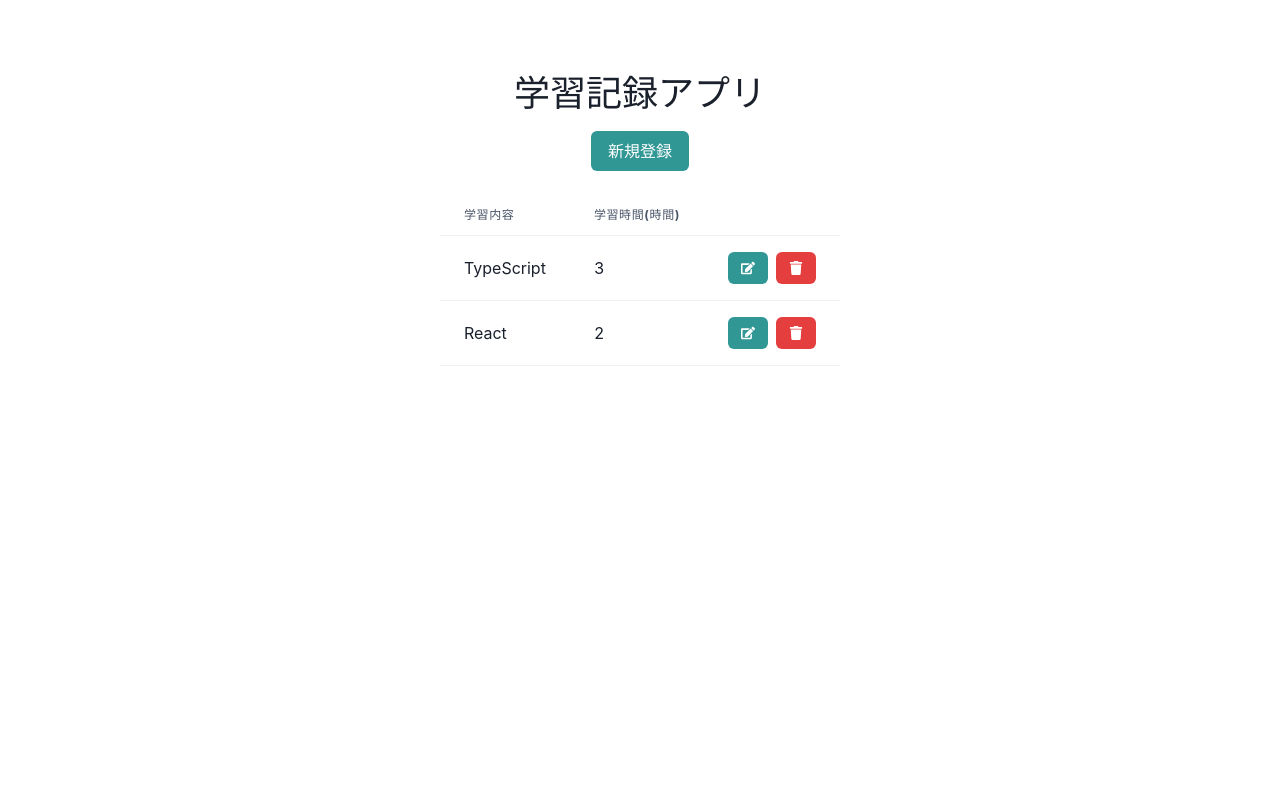
Test: 編集機能 › 編集ボタンを押すとモーダルが表示される
The width and height of the screenshot is (1280, 800).
Expected: the table is shown, [440,195,840,366]
What coordinates should you click on to do the following:
click the 2nd button
I would click on:
 (748, 268)
Its box is [728,252,768,284].
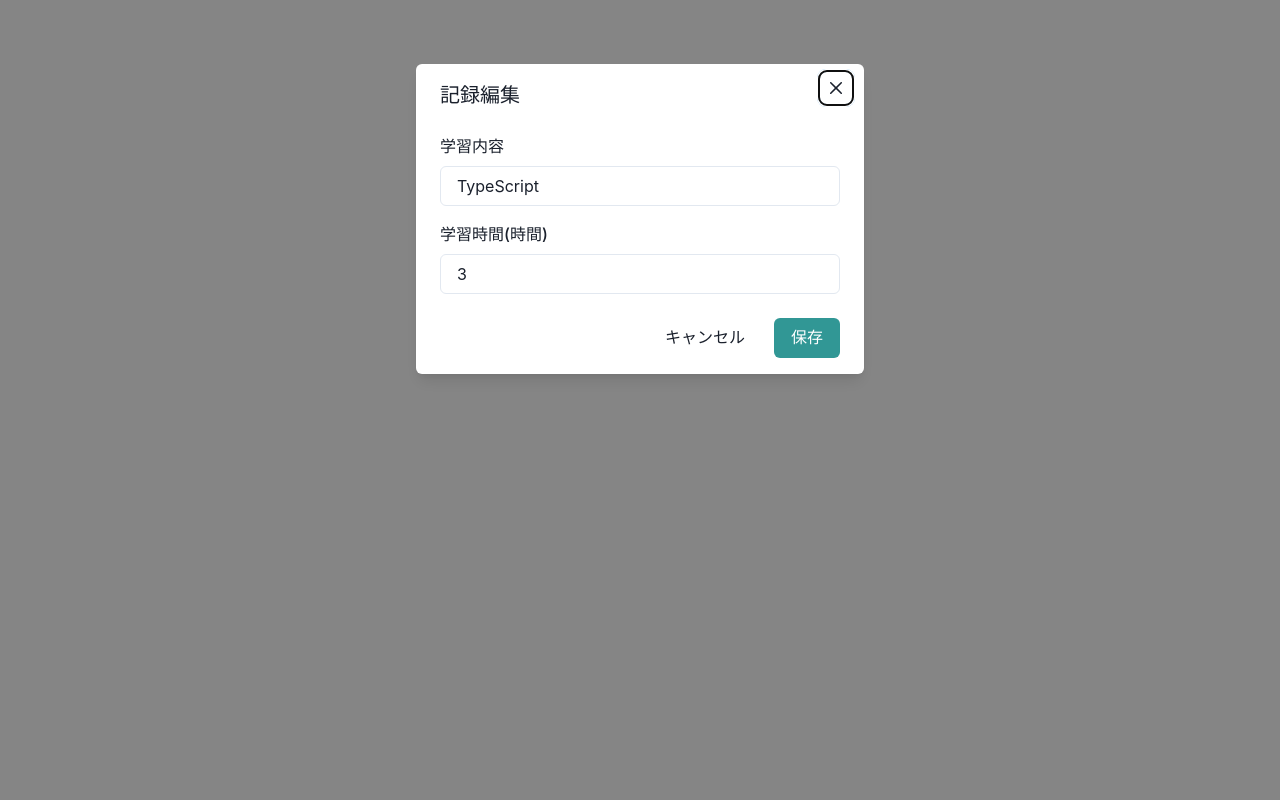
Expected: the dialog is shown, [416,64,864,374]
